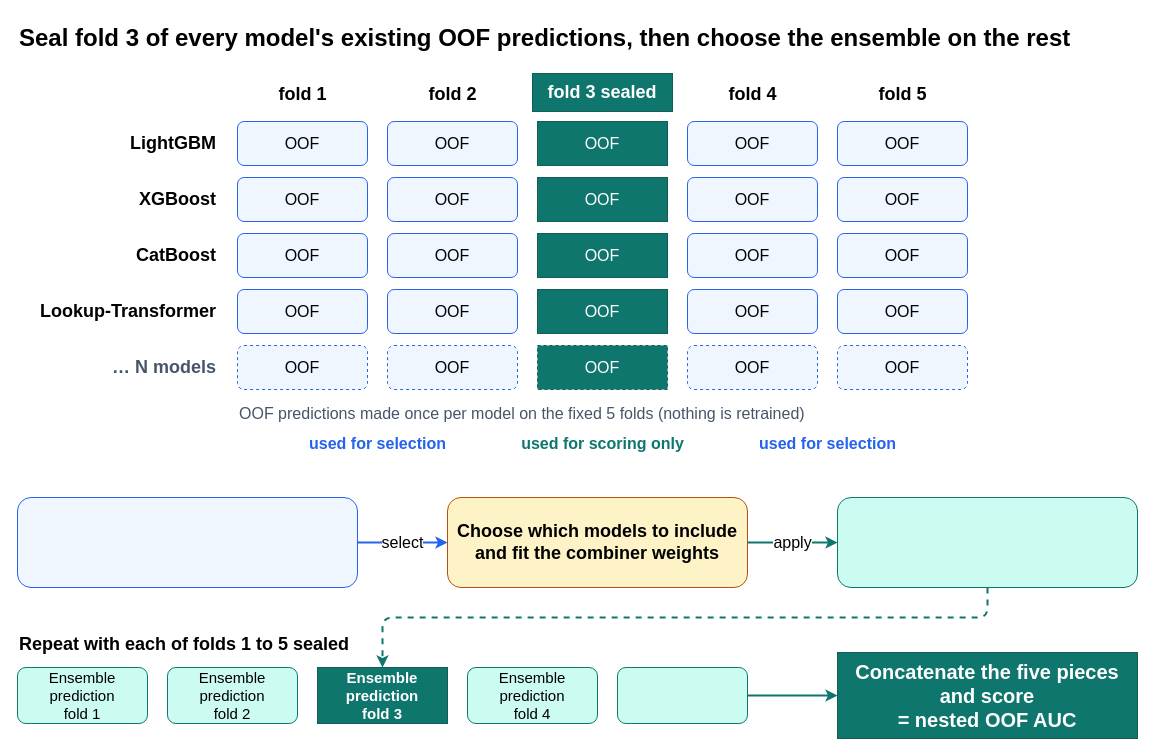
The diagram is 1155 pixels wide and 756 high, and some of its shapes have lost their labels. Here are the shapes that lost their labels. From the top down, the box of each, then its label:
(16, 496, 358, 588): OOF predictions of N models and labels on folds 1, 2, 4, 5
(836, 496, 1138, 588): Apply to the fold 3 OOF rows → fold 3 ensemble prediction
(616, 666, 748, 724): Ensemble prediction fold 5
